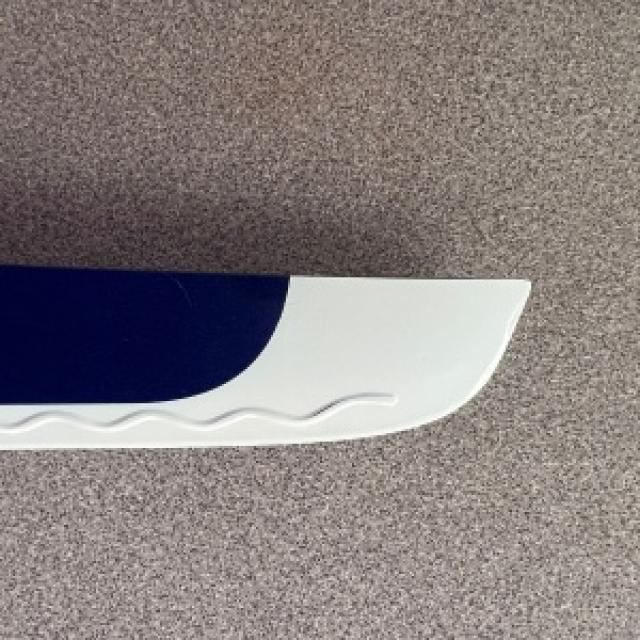healthy: (0, 262, 529, 446)
